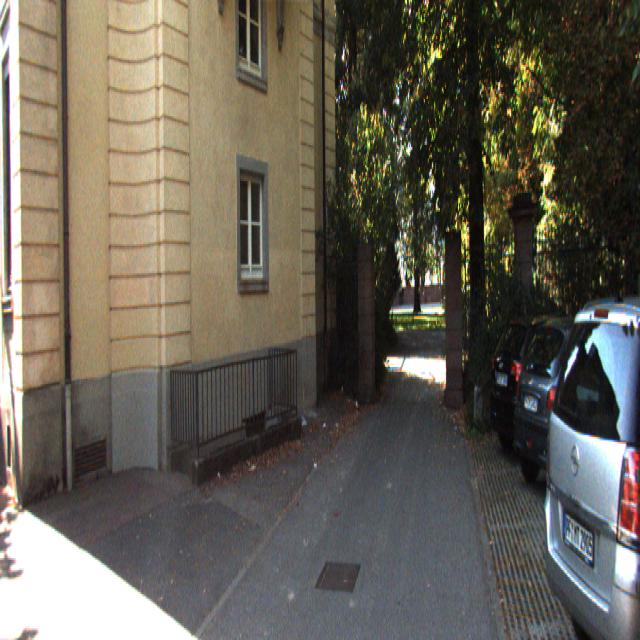Car: (510, 312, 640, 500), (488, 310, 640, 460)
